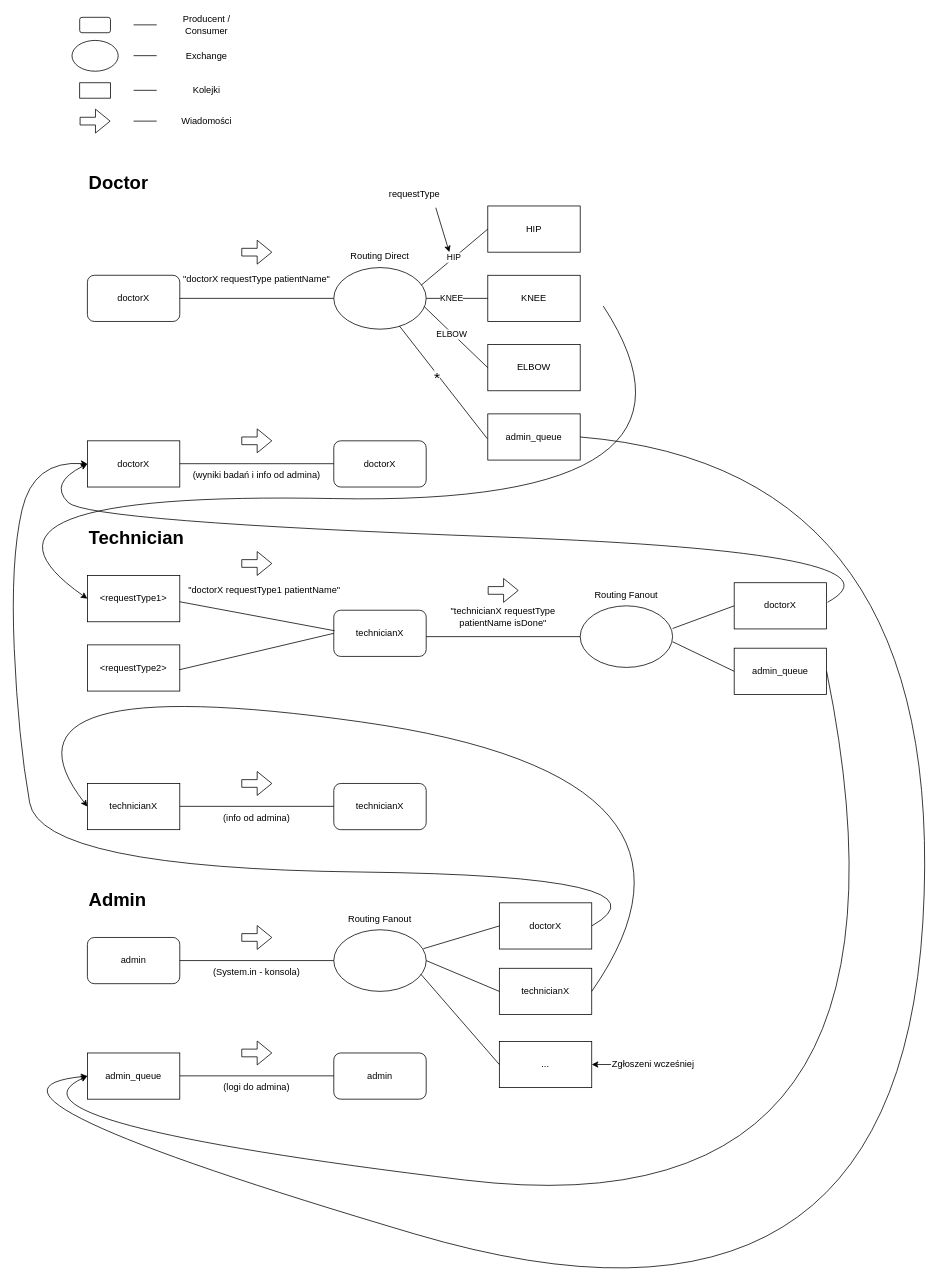
Image size: 939x1281. Some labels were removed from this diagram. The centre of each missing label's shape, as x and y in pixels:
"admin_exchange" goes at (x=379, y=960).
"log_exchange" goes at (x=626, y=636).
"order_exchange" goes at (x=379, y=298).
